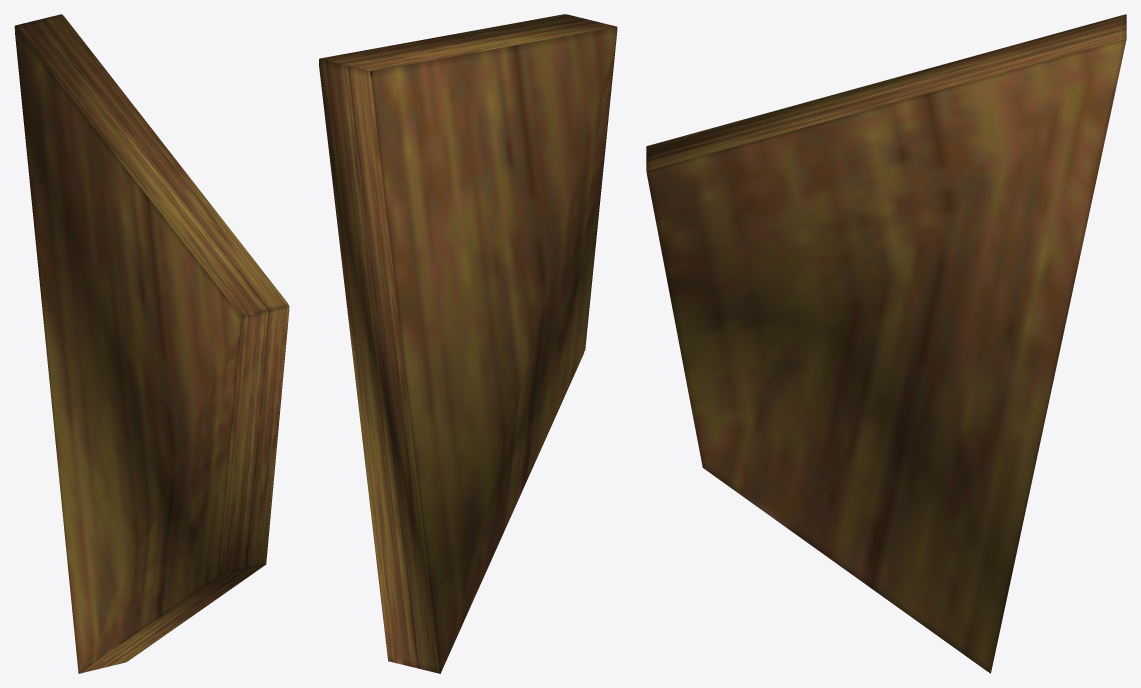
The picture shows the model from 3 angles, left to right: view 1: azimuth 30°, elevation 25°; view 2: azimuth 150°, elevation 25°; view 3: azimuth 270°, elevation 25°; orthographic projection. The views are drawn at different scales.
Parts seen in each view (by area): view 1: T1L2M009_45; view 2: T1L2M009_45; view 3: T1L2M009_45.
Part boxes in pixels (x1,y1,x2,y2): T1L2M009_45: (14, 14, 289, 673); T1L2M009_45: (319, 14, 617, 673); T1L2M009_45: (646, 14, 1126, 673).
Size of the model in its own units: 0.1094 by 1.22 by 0.8389.
